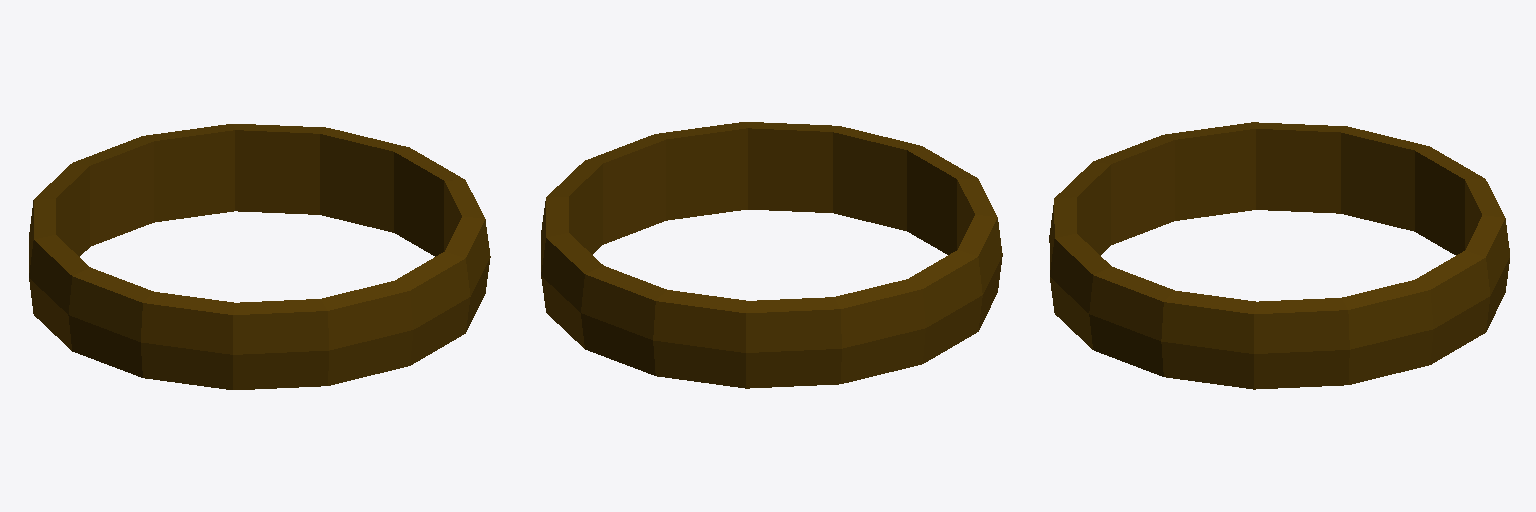
Rendered from impact.obj.
3 views of the same model, side by side, from view 1: azimuth 30°, elevation 25°; view 2: azimuth 150°, elevation 25°; view 3: azimuth 270°, elevation 25° (orthographic).
Parts seen in each view (by area): view 1: Ring1_Torus.016; view 2: Ring1_Torus.016; view 3: Ring1_Torus.016.
Boxes of the visible parts, <box> form: Ring1_Torus.016: <box>29,124,490,389</box>; Ring1_Torus.016: <box>541,122,1002,388</box>; Ring1_Torus.016: <box>1049,122,1509,389</box>.
Size of the model in its own units: 0.6635 by 0.128 by 0.6584.